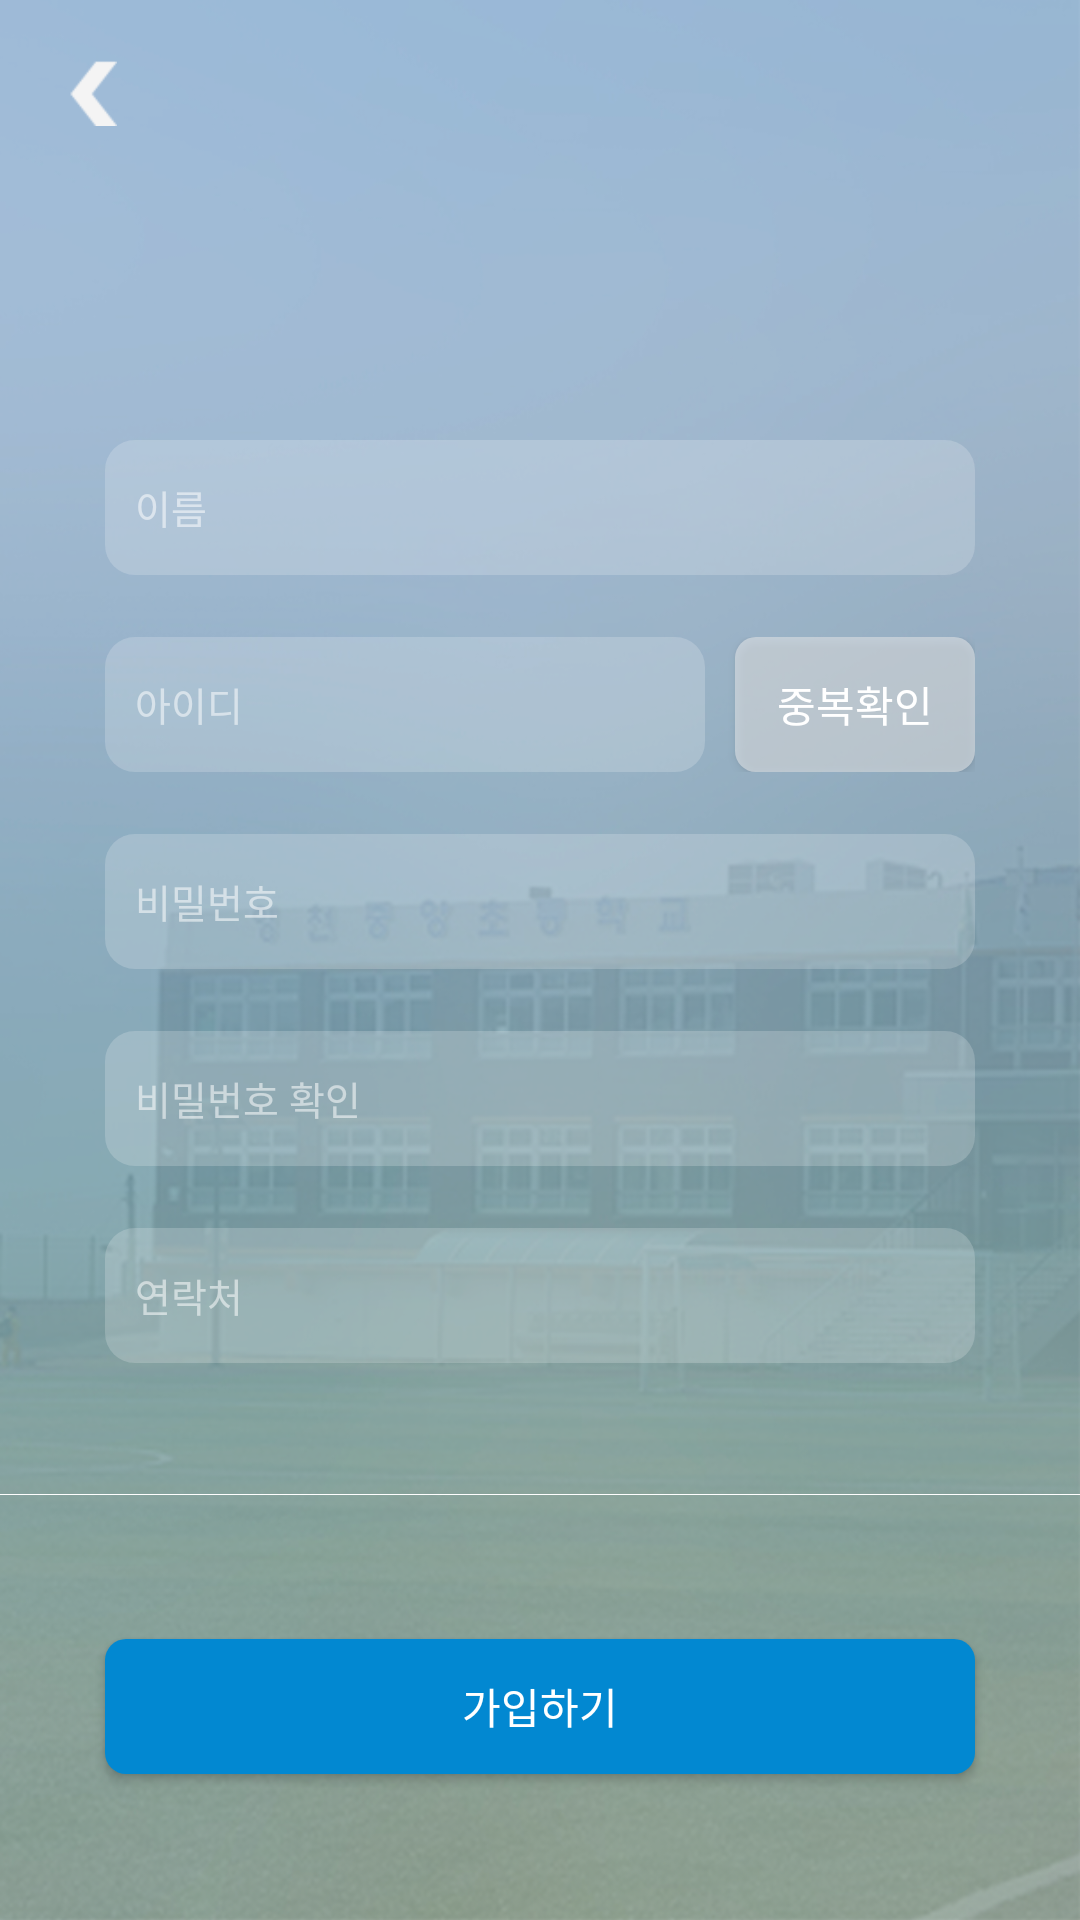

Named icons in this screenshot (1080 x 1920) and their centers, (x=x, y=y):
back: (x=94, y=93)
